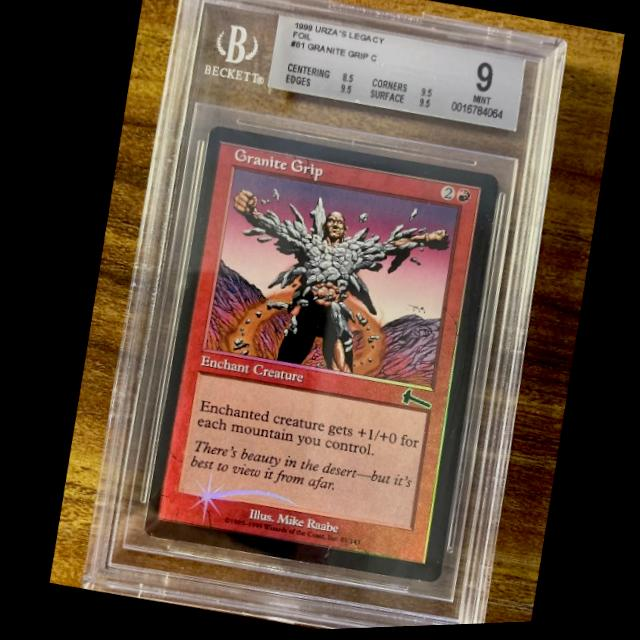bgs_label: (267, 16, 524, 134)
bgs_slab: (72, 0, 568, 631)
card: (136, 125, 500, 586)
